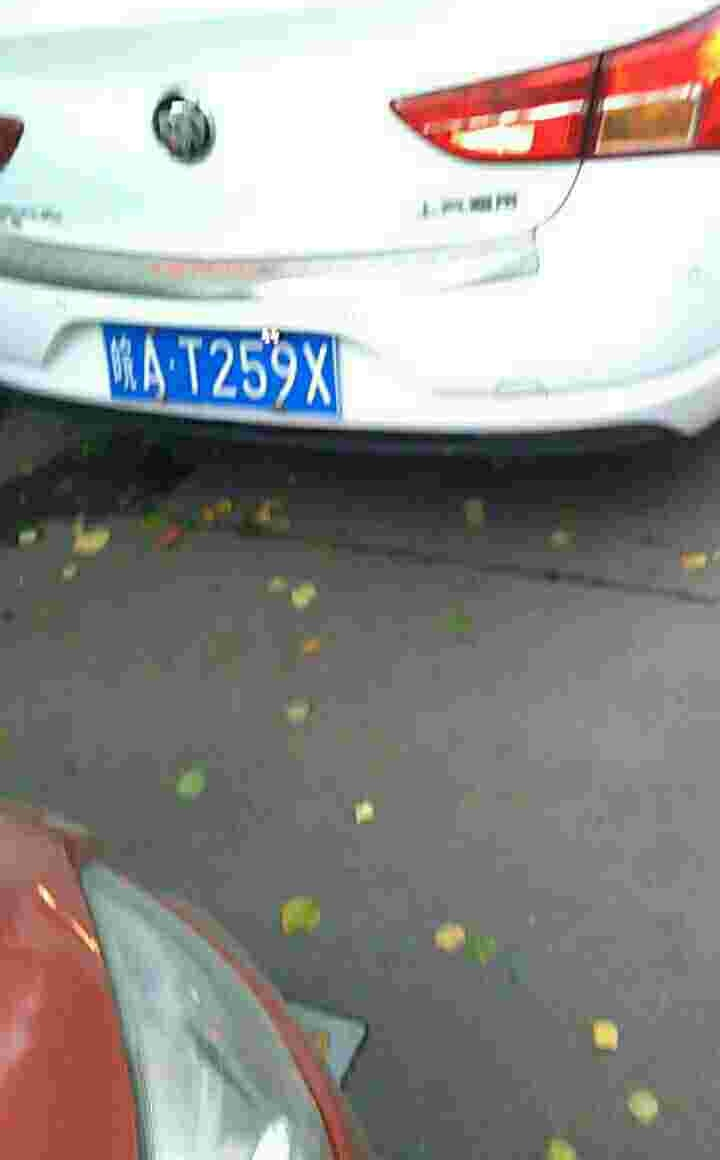license_plate: (100, 319, 331, 418)
